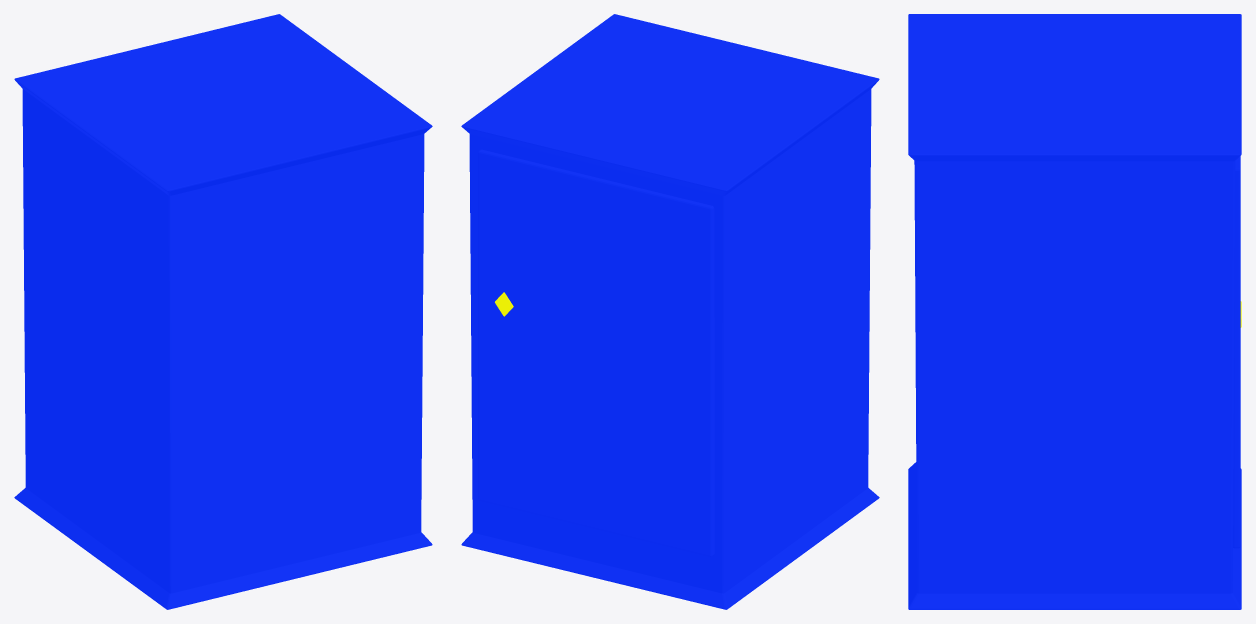
Rendered from Beistelltisch.fbx.
3 views of the same model, side by side, from view 1: azimuth 30°, elevation 25°; view 2: azimuth 150°, elevation 25°; view 3: azimuth 270°, elevation 25° (orthographic). The views are drawn at different scales.
Visible parts, largest first — view 1: Beistelltisch_Export; view 2: Beistelltisch_Export; view 3: Beistelltisch_Export.
Boxes of the visible parts, <box> form: Beistelltisch_Export: <box>14,14,432,609</box>; Beistelltisch_Export: <box>461,14,879,609</box>; Beistelltisch_Export: <box>908,14,1241,609</box>.
Bounding box in the file's own units: 79.49 × 120 × 79.53.
